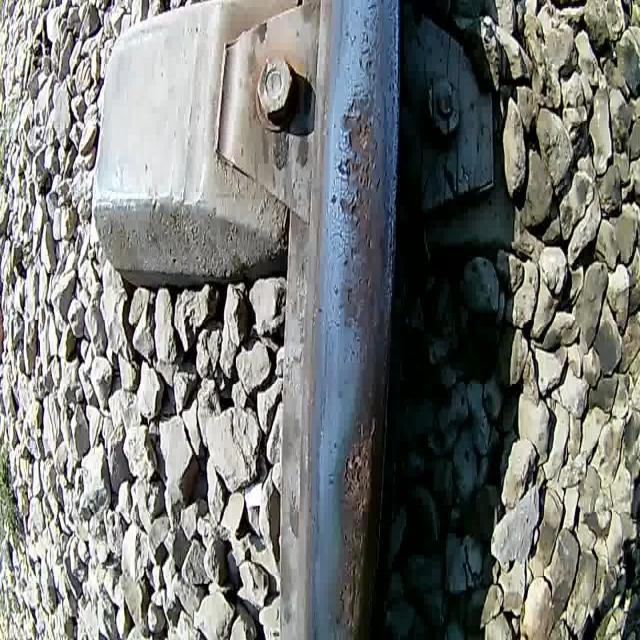Spallings: (335, 89, 383, 257), (340, 411, 378, 523), (334, 554, 367, 639)
Squats: (332, 85, 385, 360), (329, 386, 385, 640), (342, 0, 388, 84)
